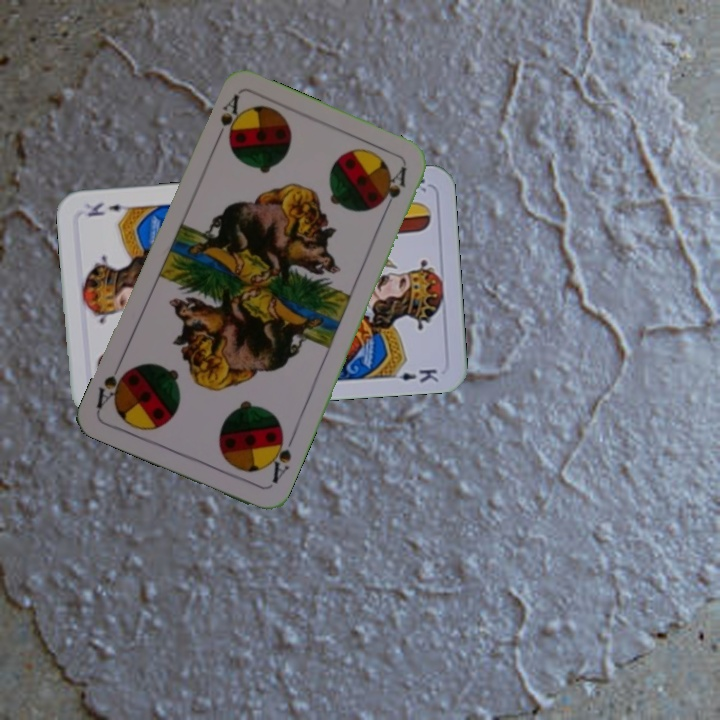SA: (263, 428, 297, 487), (210, 91, 244, 147)
